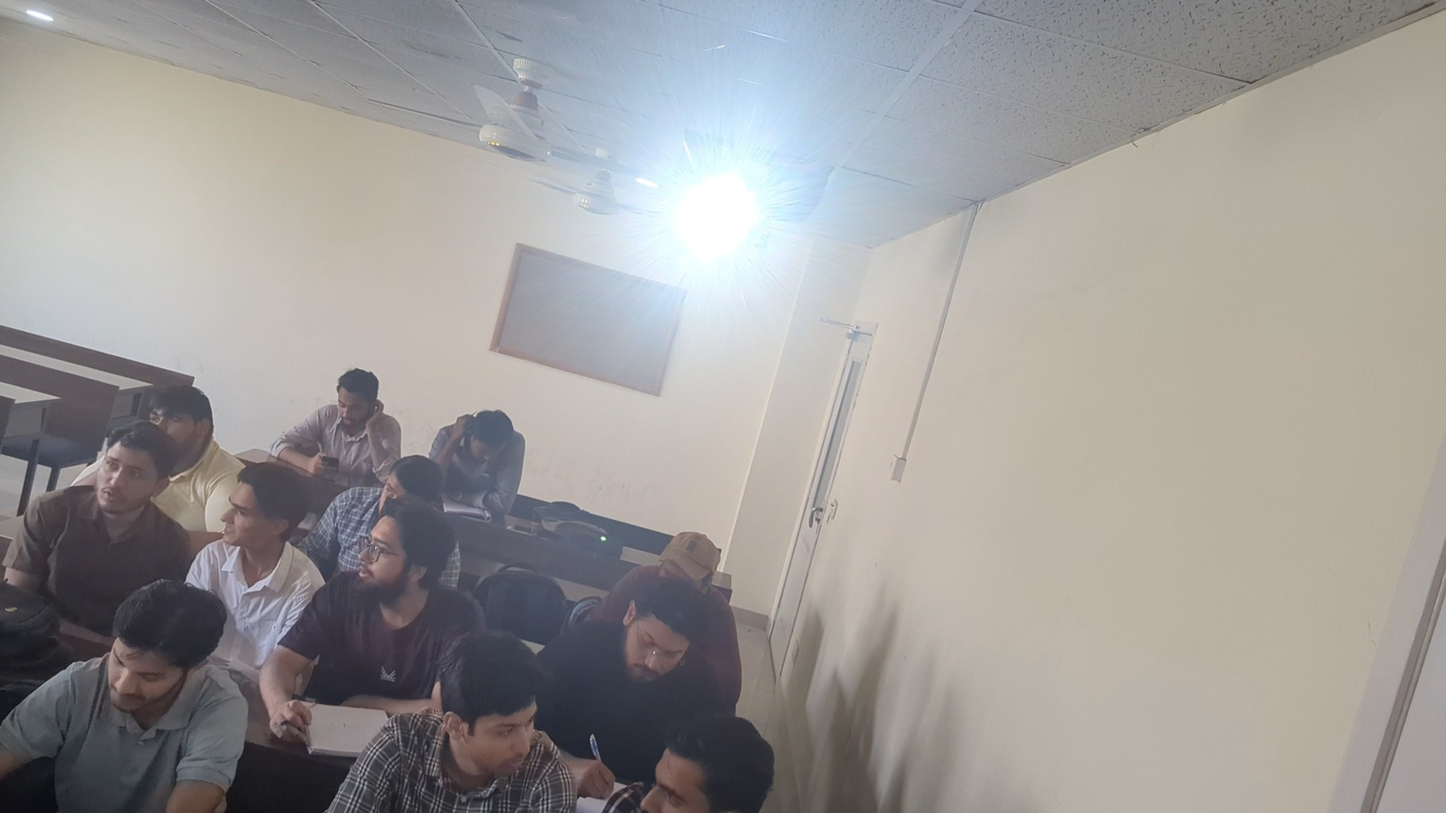look_forward: (49, 410, 171, 571), (139, 361, 257, 506), (334, 505, 453, 626), (212, 457, 310, 589), (366, 464, 438, 517)
read: (70, 607, 217, 791), (446, 386, 564, 532)
turn_head: (405, 639, 554, 789)
using_device: (300, 354, 379, 482)
write: (590, 582, 680, 779)
